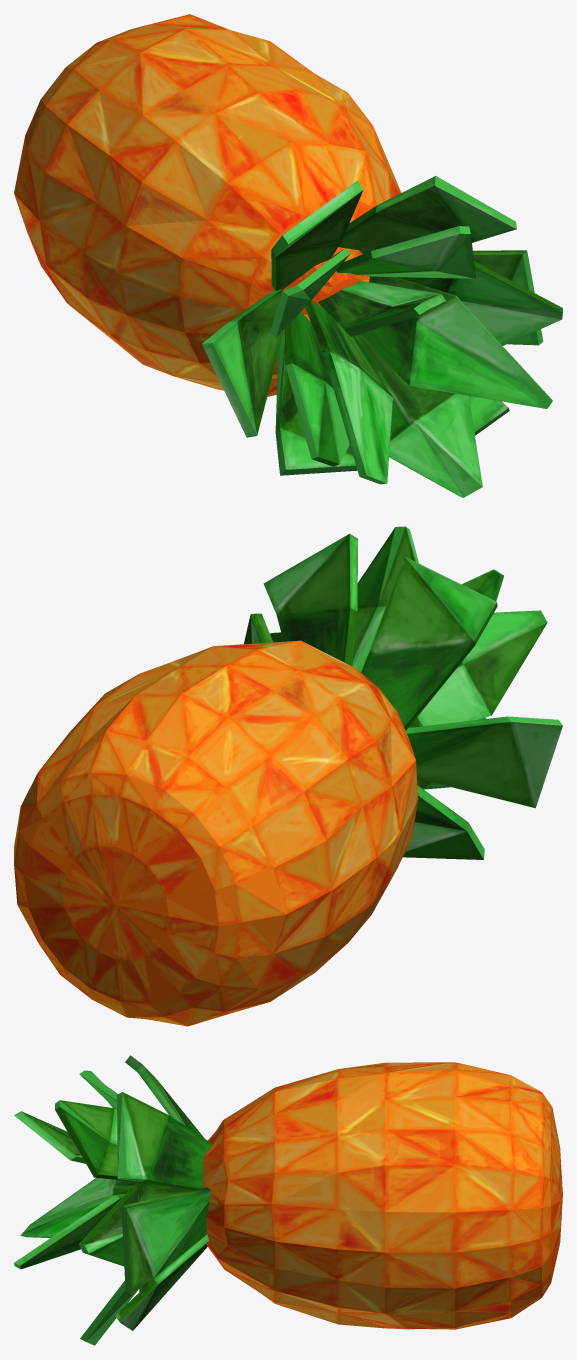
The model's file is fruit.obj.
3 renders of one model, top to bottom at view 1: azimuth 30°, elevation 25°; view 2: azimuth 150°, elevation 25°; view 3: azimuth 270°, elevation 25°, orthographic. The views are drawn at different scales.
Visible parts, largest first — view 1: Object.1; view 2: Object.1; view 3: Object.1.
Boxes of the visible parts, x1,y1,x2,y2 form: Object.1: (14,14,562,497); Object.1: (14,526,562,1026); Object.1: (14,1055,562,1345).
Size of the model in its own units: 10 by 9.09 by 17.71.
Materials: 1 (1 with a texture image).
